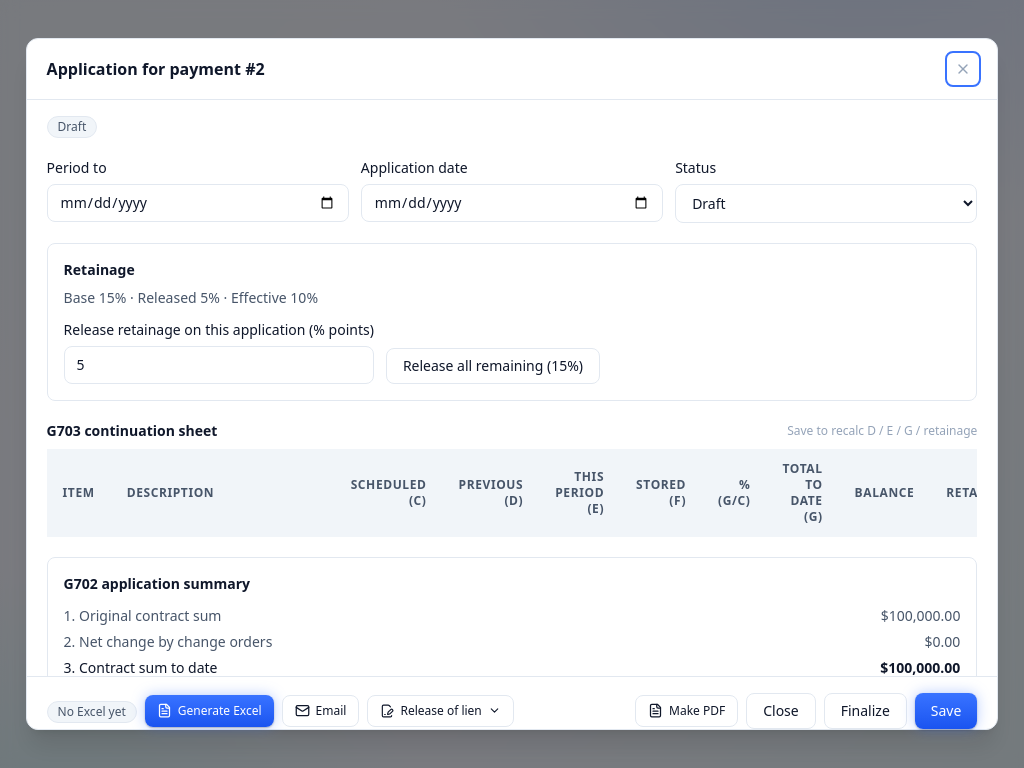
AiaPayAppEditor — Make PDF (ONLYOFFICE Phase 4) › generates the workbook when there is none, then makes the PDF from it
Click the button with test id "payapp-make-pdf": (687, 711) [635,695,738,727]
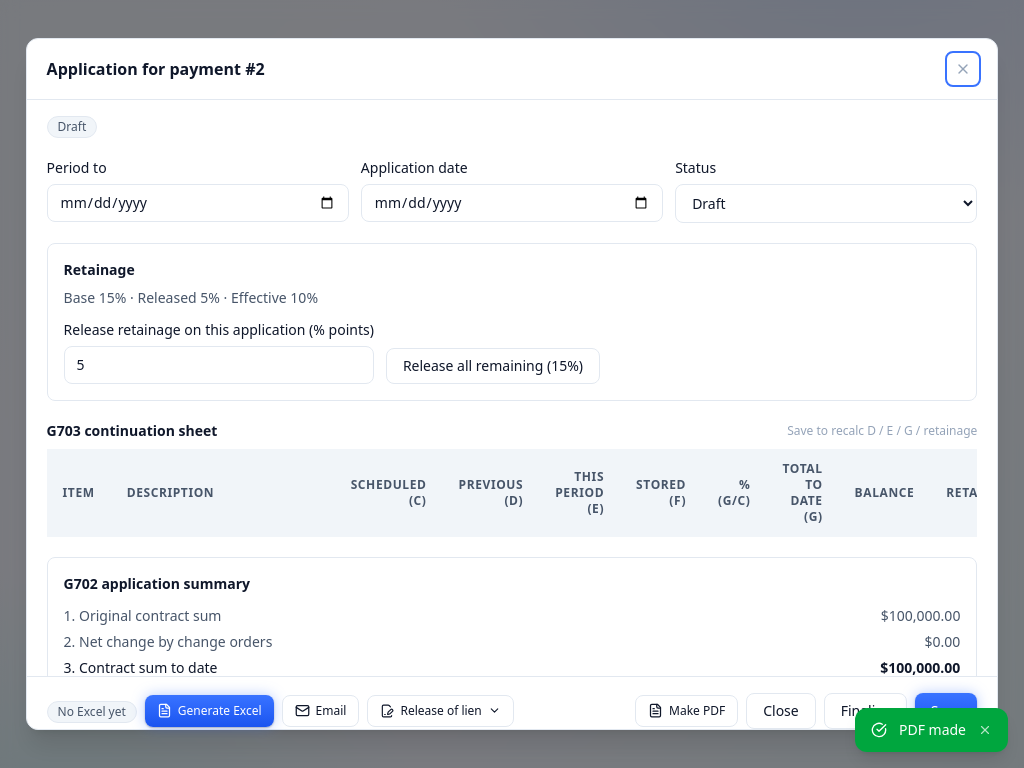
Check: the text "PDF made" is shown, box [899,720,966,740]
